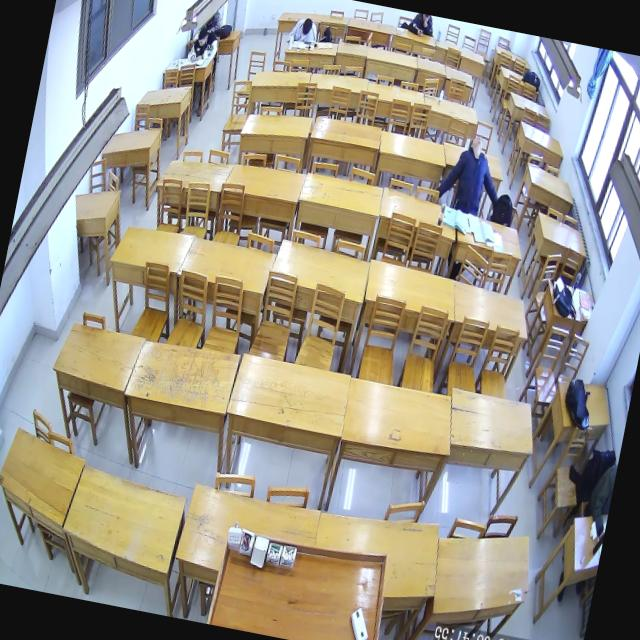bow: (288, 15, 320, 48)
down: (196, 27, 210, 48), (300, 17, 314, 38)
lookup: (468, 134, 484, 153)
sit: (434, 129, 508, 219), (186, 25, 222, 67)
